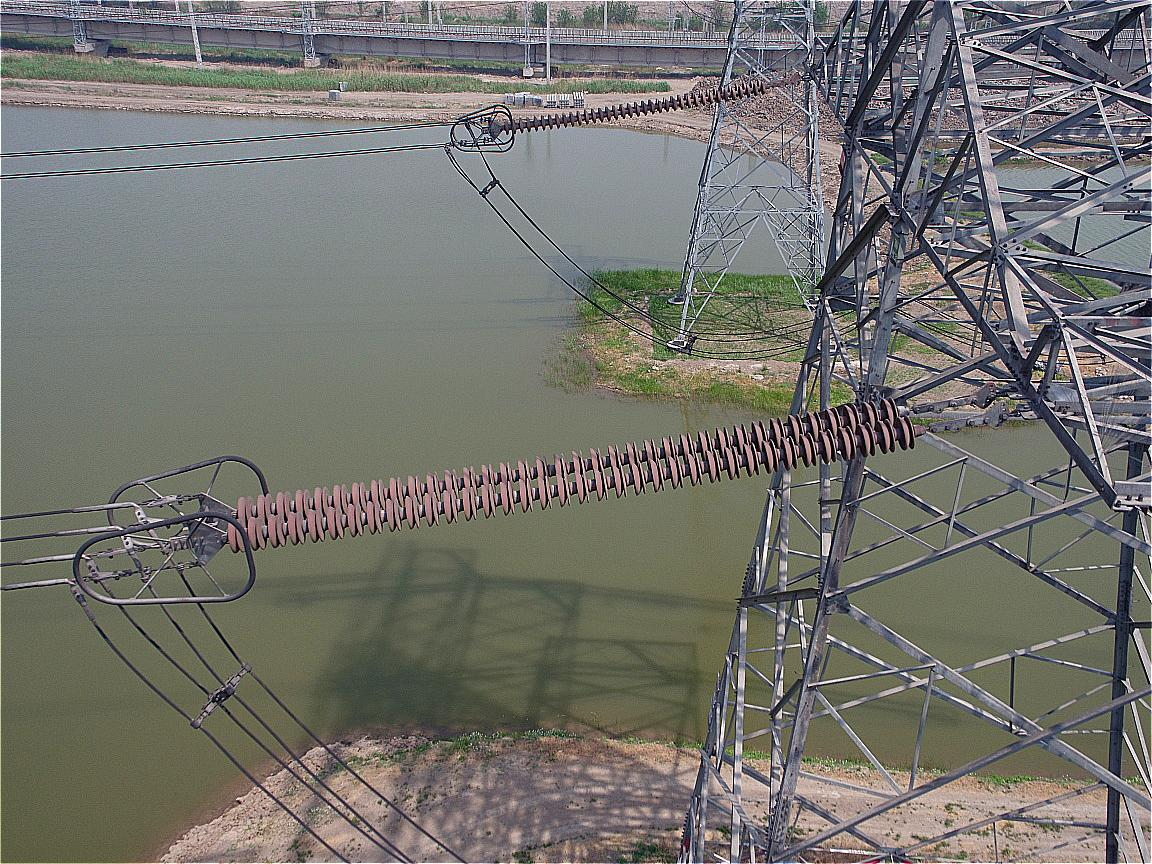insultor1: (474, 71, 787, 150)
insultor2: (215, 380, 936, 565)
